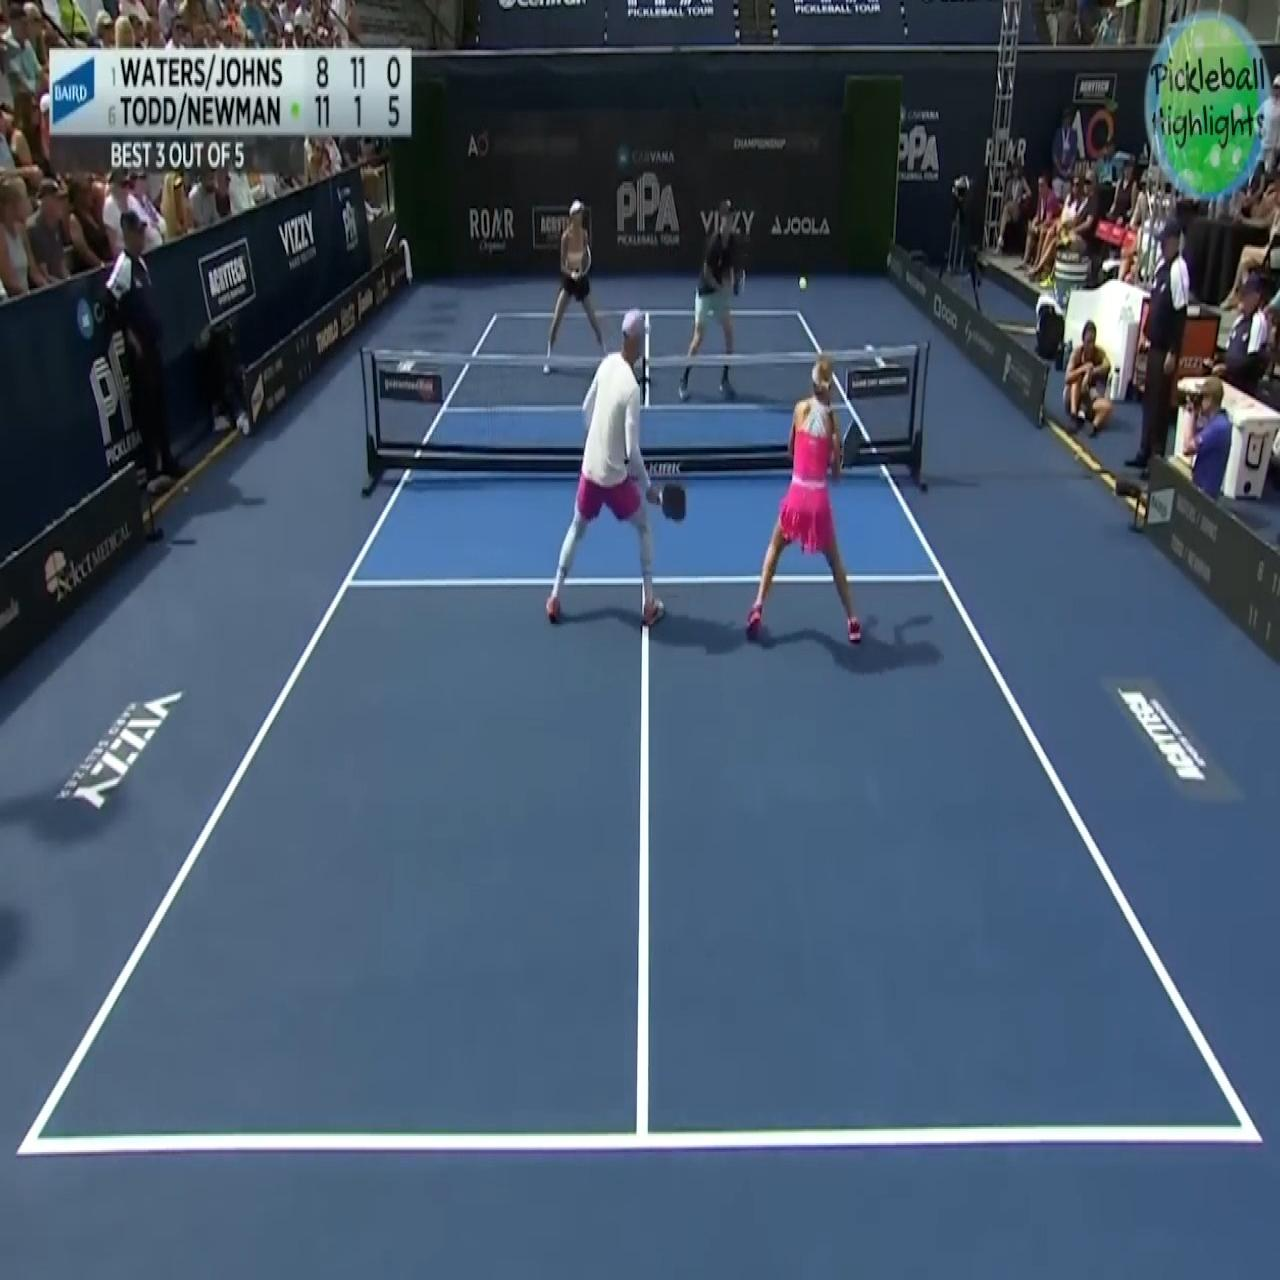Pickleball: (797, 272, 808, 293)
